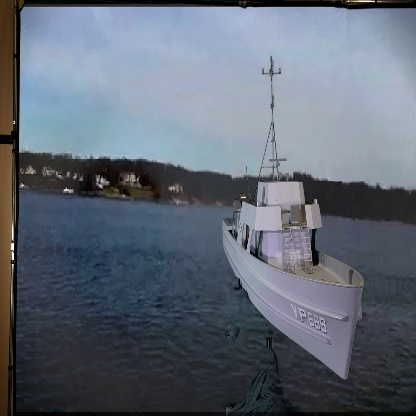YP689: (221, 60, 365, 382)
